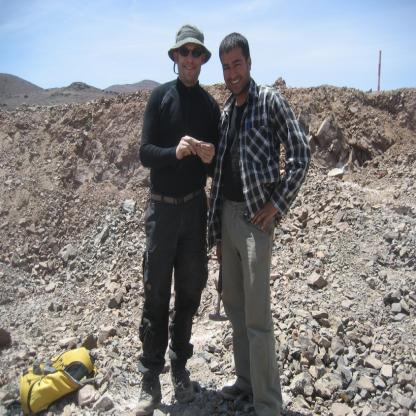person: (215, 16, 303, 410), (134, 17, 214, 403)
